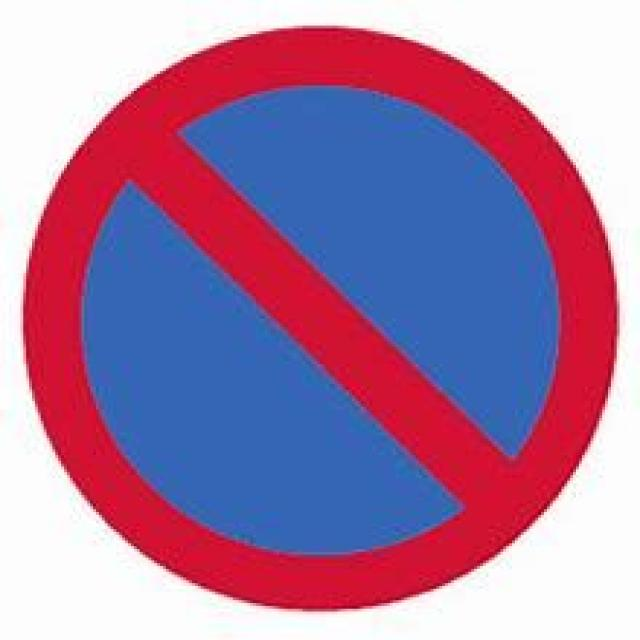do_not_enter: (11, 20, 622, 606)
